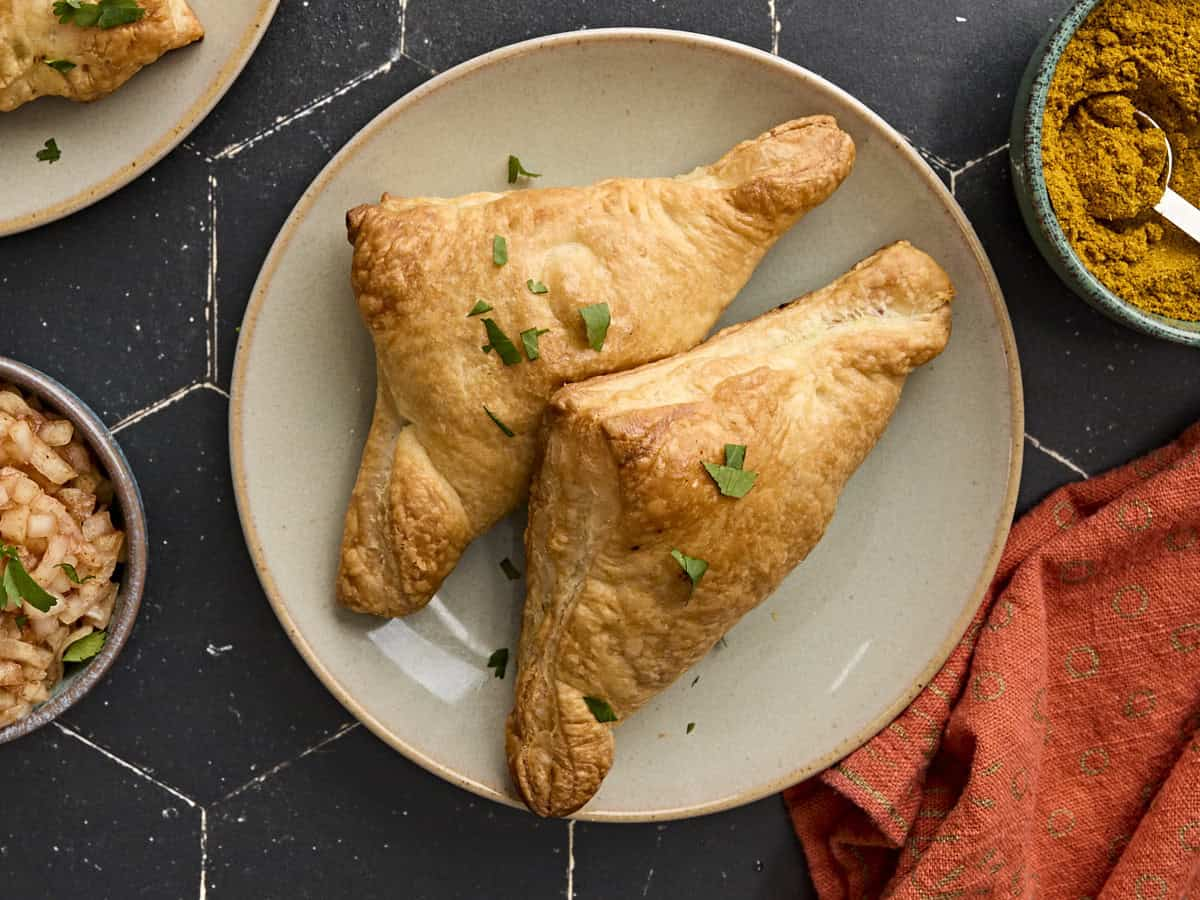samosa: (498, 240, 958, 822), (332, 116, 858, 624), (0, 0, 216, 116)
